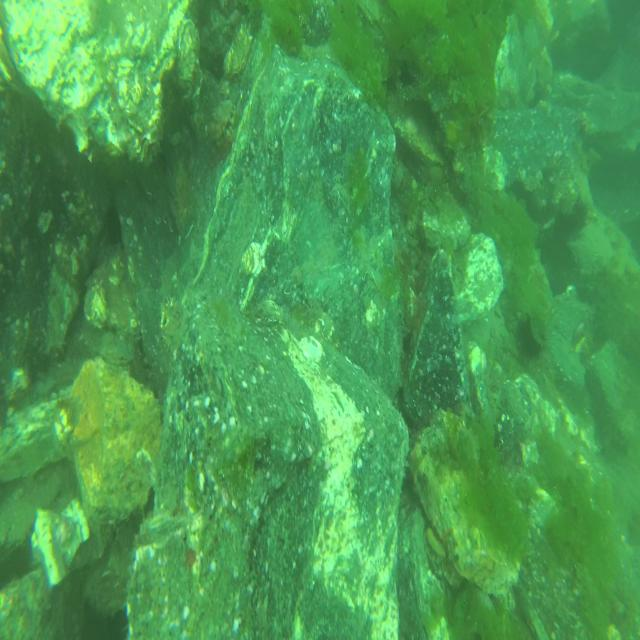echinus: (518, 314, 548, 363), (100, 208, 122, 248)
